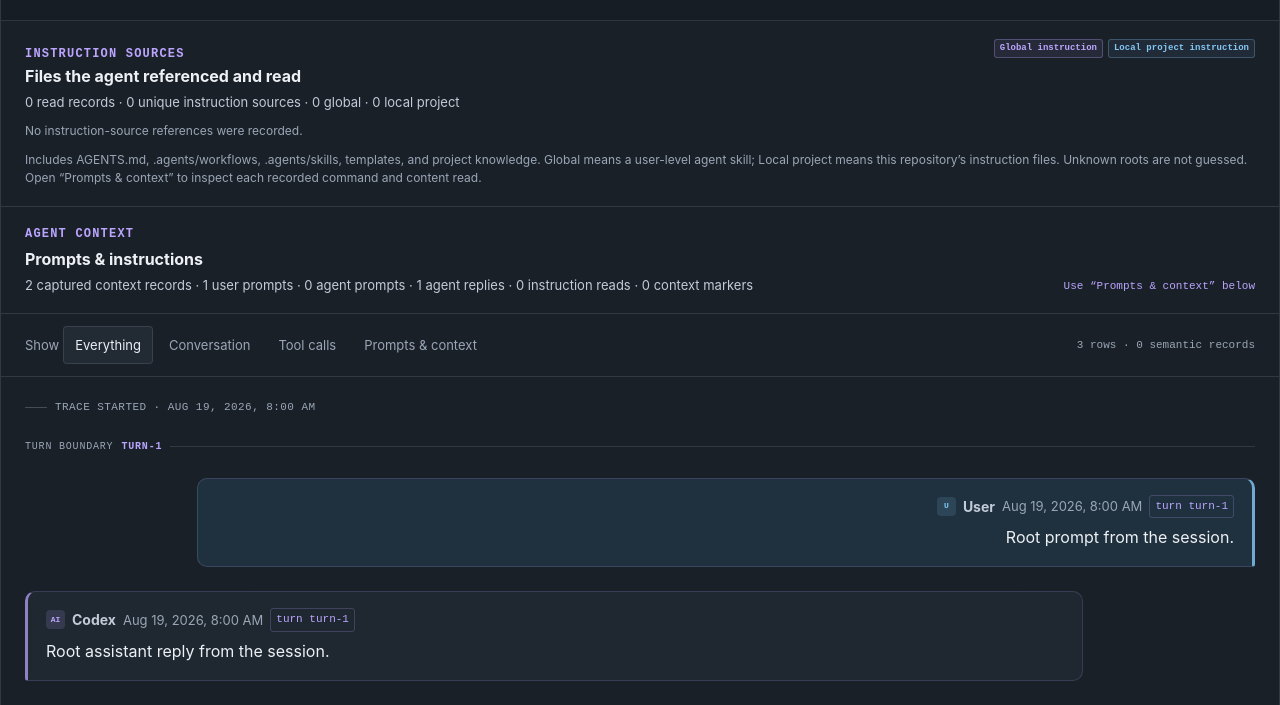
Test: TraceView API conversation › renders a root Stop assistant reply while keeping a provenance-bearing agent reply contextual
(page scrolled)
expect the element with class "conversation-message" shows "Root prompt from the session.": met, box [1006,527,1234,547]
expect the element with class "conversation-message" shows "Root assistant reply from the session.": met, box [46,640,330,660]
Click the button "Conversation" at (210, 345), box [157,326,262,364]
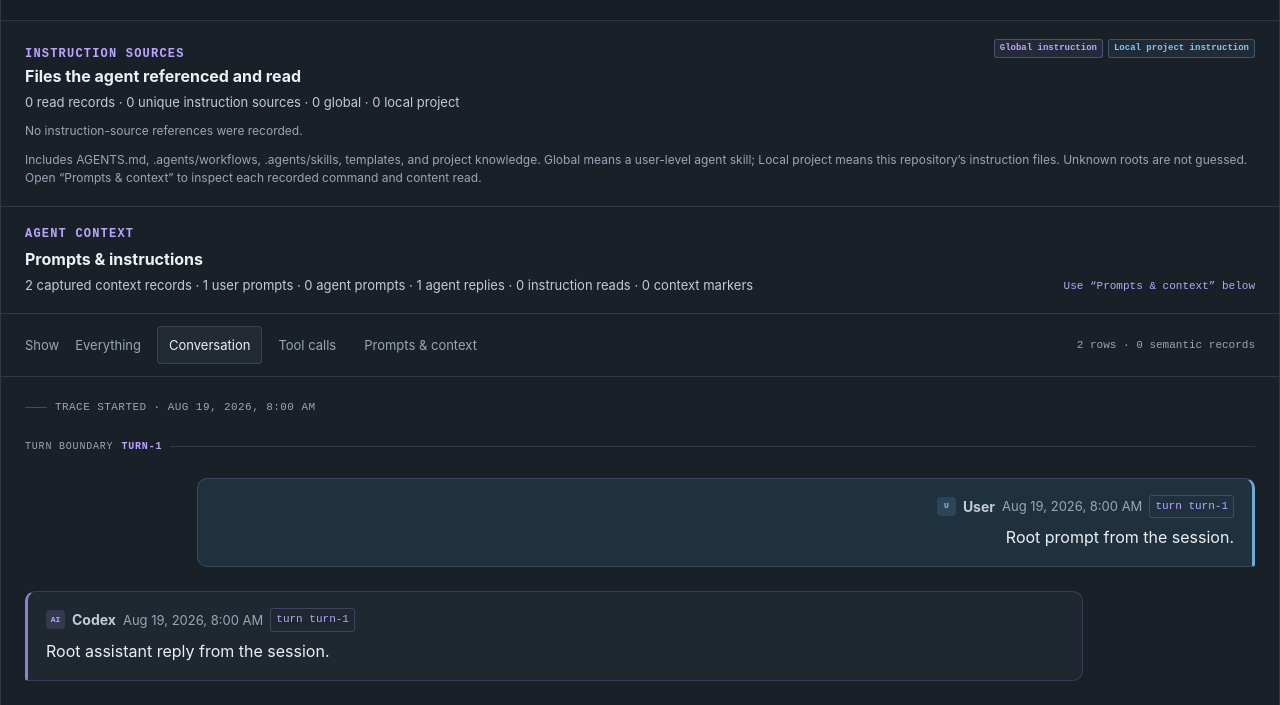
expect the text "Internal worker result." is not shown: met
Click the button "Prompts & context" at (421, 345), box [352,326,489,364]
(page scrolled)
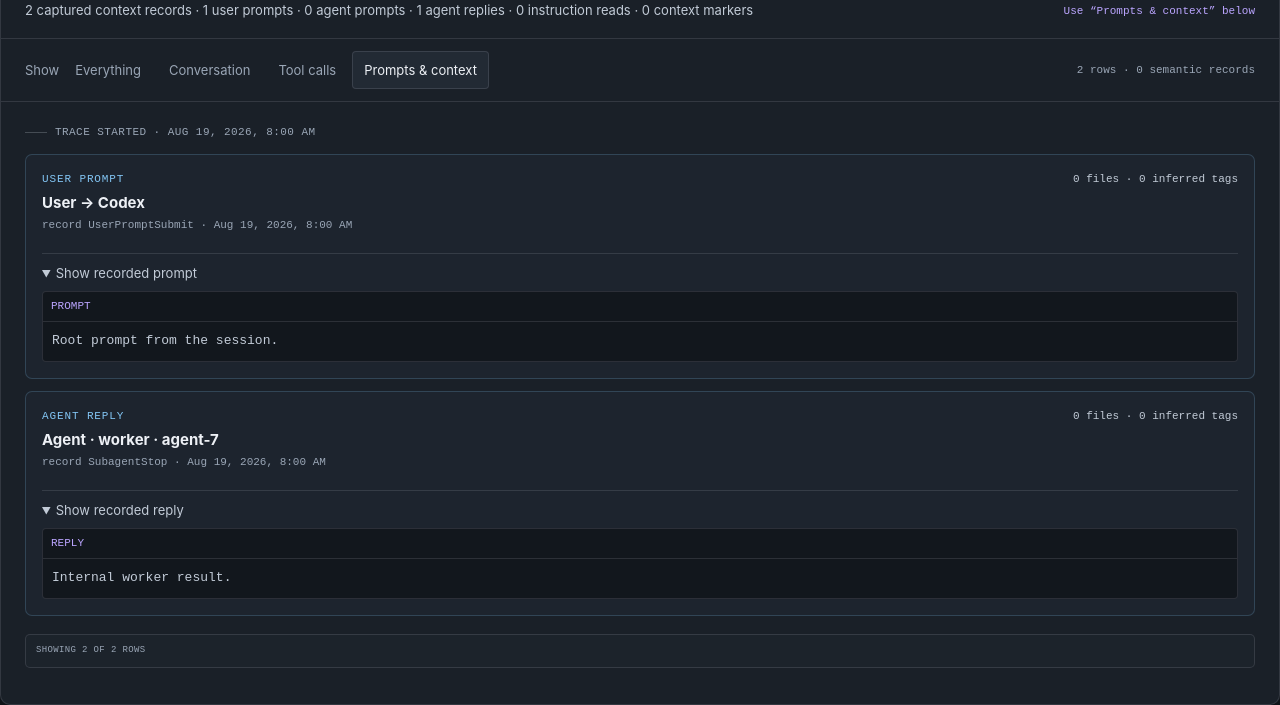
expect the text "Internal worker result." is shown: met, box [52,570,231,585]
expect the text "Agent · worker · agent-7" is shown: met, box [42,430,219,449]
expect no elements with class "conversation-message" are shown: met
